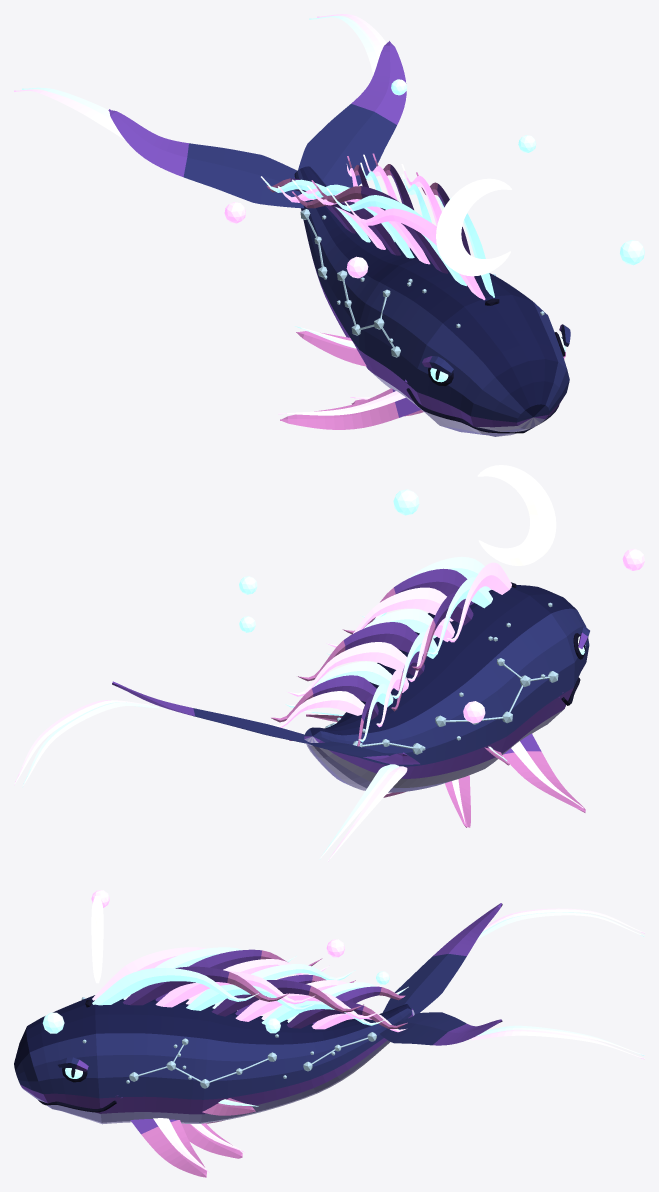
The model's file is ThousandYearDreamEater.fbx.
3 views of the same model, one above another, from view 1: azimuth 30°, elevation 25°; view 2: azimuth 150°, elevation 25°; view 3: azimuth 270°, elevation 25° (orthographic). The views are drawn at different scales.
Parts seen in each view (by area): view 1: ThousandYearDreamEater_Body, ThousandYearDreamEater_Glow_ff81e5, ThousandYearDreamEater_Glow_7cadff, ThousandYearDreamEater_Glow_ffe7aa, ThousandYearDreamEater_Glow_c4eaff; view 2: ThousandYearDreamEater_Body, ThousandYearDreamEater_Glow_ff81e5, ThousandYearDreamEater_Glow_7cadff, ThousandYearDreamEater_Glow_ffe7aa, ThousandYearDreamEater_Glow_c4eaff; view 3: ThousandYearDreamEater_Body, ThousandYearDreamEater_Glow_7cadff, ThousandYearDreamEater_Glow_ff81e5, ThousandYearDreamEater_Glow_c4eaff, ThousandYearDreamEater_Glow_ffe7aa.
Part boxes in pixels (box(x1,y1,x2,y2)): ThousandYearDreamEater_Body: box(108, 41, 570, 436); ThousandYearDreamEater_Glow_ff81e5: box(14, 14, 485, 415); ThousandYearDreamEater_Glow_7cadff: box(22, 16, 644, 348); ThousandYearDreamEater_Glow_ffe7aa: box(436, 178, 511, 276); ThousandYearDreamEater_Glow_c4eaff: box(300, 209, 544, 357); ThousandYearDreamEater_Body: box(112, 568, 589, 827); ThousandYearDreamEater_Glow_ff81e5: box(14, 548, 644, 861); ThousandYearDreamEater_Glow_7cadff: box(22, 489, 507, 859); ThousandYearDreamEater_Glow_ffe7aa: box(477, 465, 556, 565); ThousandYearDreamEater_Glow_c4eaff: box(325, 602, 558, 754); ThousandYearDreamEater_Body: box(14, 903, 502, 1177); ThousandYearDreamEater_Glow_7cadff: box(42, 912, 644, 1106); ThousandYearDreamEater_Glow_ff81e5: box(91, 890, 644, 1172); ThousandYearDreamEater_Glow_c4eaff: box(81, 997, 376, 1088); ThousandYearDreamEater_Glow_ffe7aa: box(91, 896, 103, 983).
Bounding box in the file's own units: 1.98 × 1.66 × 4.02.
6 materials, 1 textured.
